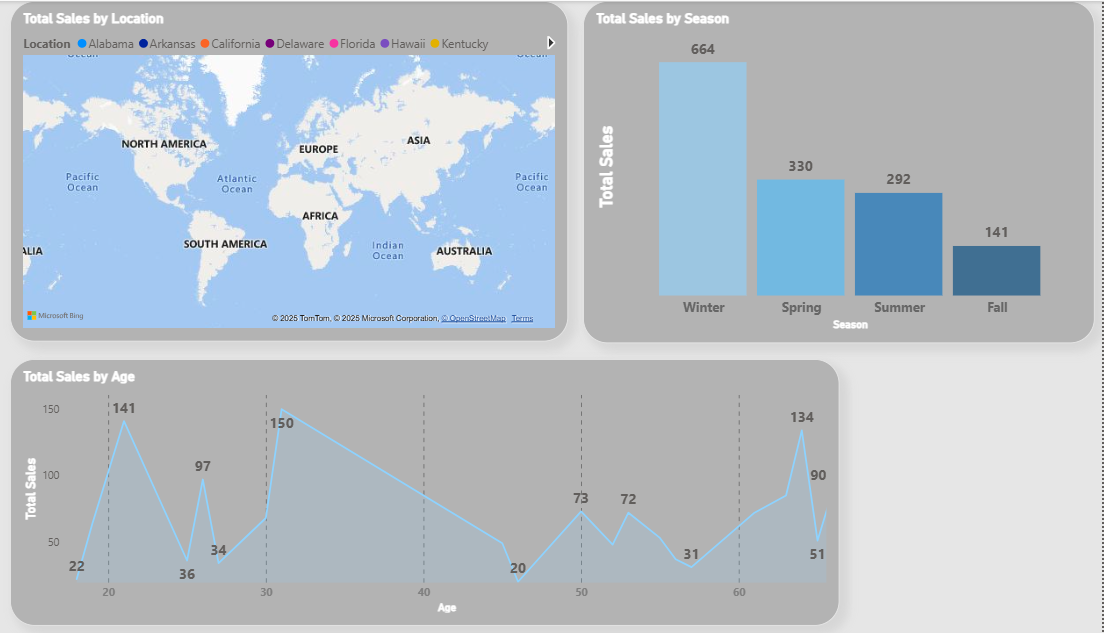

What the dashboard file says about the page in this screenshot:
{"tool":"powerbi","page":{"name":"Demographics","canvas":[1280,720],"ordinal":2},"visuals":[{"type":"lineChart","fields":{"Y":["Sum(Cleaned_Data.Purchase_Amount_USD)"],"Category":["Cleaned_Data.Age"]},"box":[36.2,407.5,945,303.8],"z":0},{"type":"map","fields":{"Series":["Cleaned_Data.Location"],"Size":["Cleaned_Data.Total Sales"]},"box":[36,0,636,388.4],"z":1000},{"type":"columnChart","fields":{"Y":["Cleaned_Data.Total Sales"],"Category":["Cleaned_Data.Season"]},"box":[689.5,0,582.6,389.5],"z":2000}]}

Visuals, with their boxes in screenshot pixels (x1, y1, x2, y2), scaled from the page's 1280x720 canvas onto the 1104x633 screenshot:
lineChart - Sum(Cleaned_Data.Purchase_Amount_USD) x Cleaned_Data.Age: {"left": 31, "top": 358, "right": 846, "bottom": 625}
map - Cleaned_Data.Location x Cleaned_Data.Total Sales: {"left": 31, "top": 0, "right": 580, "bottom": 341}
columnChart - Cleaned_Data.Total Sales x Cleaned_Data.Season: {"left": 595, "top": 0, "right": 1097, "bottom": 342}
